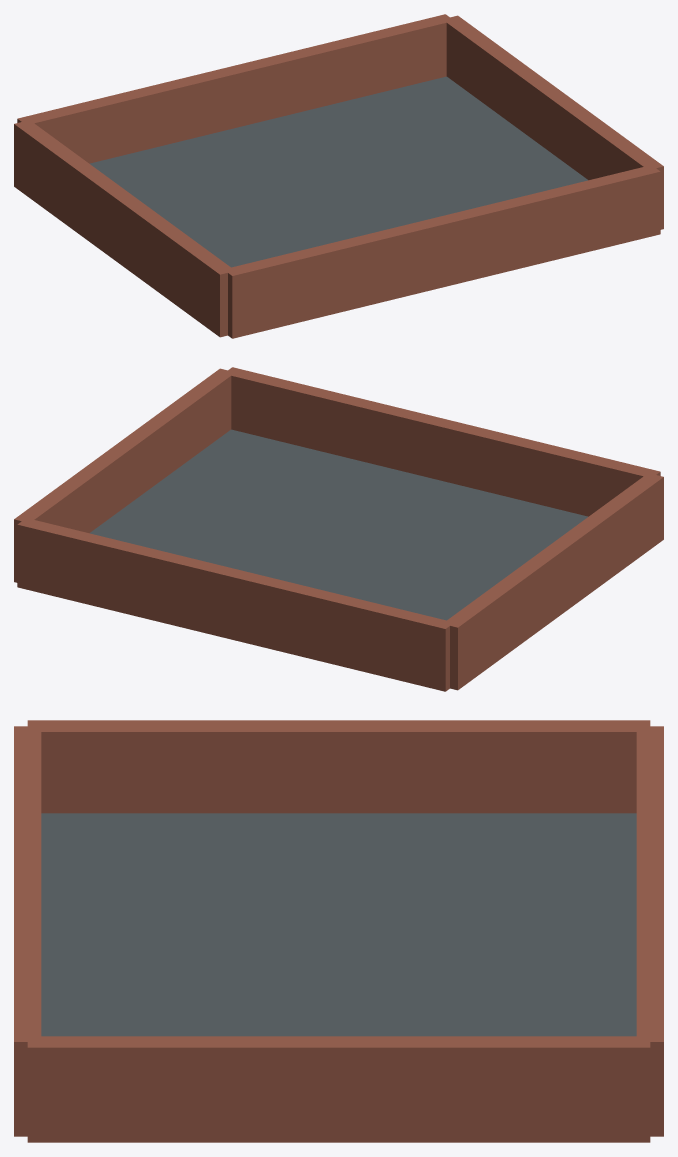
3 renders of one model, top to bottom at view 1: azimuth 30°, elevation 25°; view 2: azimuth 150°, elevation 25°; view 3: azimuth 270°, elevation 25°, orthographic. The views are drawn at different scales.
Parts seen in each view (by area): view 1: QH-A0076_V01_geometry; view 2: QH-A0076_V01_geometry; view 3: QH-A0076_V01_geometry.
Boxes of the visible parts, box(x1,y1,x2,y2) form: QH-A0076_V01_geometry: box(14, 14, 663, 338); QH-A0076_V01_geometry: box(14, 367, 663, 691); QH-A0076_V01_geometry: box(14, 720, 663, 1142).
Size of the model in its own units: 6.22 by 0.84 by 5.22.
